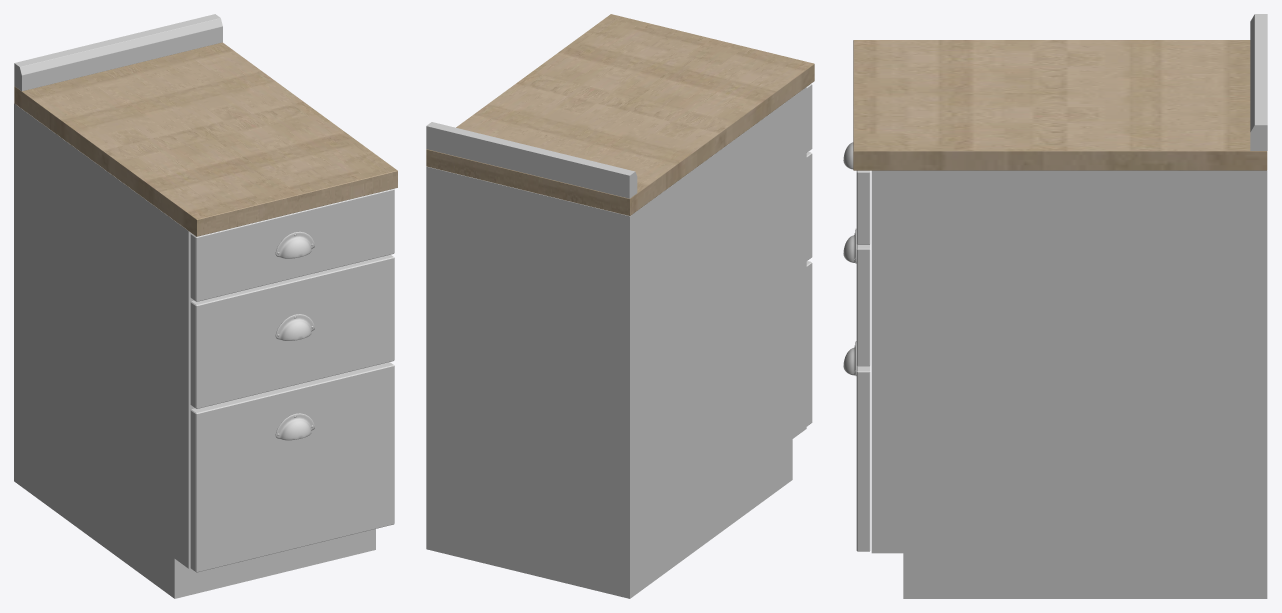
File: fit-base-cabinet.glb
3 renders of one model, left to right at view 1: azimuth 30°, elevation 25°; view 2: azimuth 150°, elevation 25°; view 3: azimuth 270°, elevation 25°, orthographic. The views are drawn at different scales.
Bounding box in the file's own units: 44.23 × 87.8 × 71.22.
Materials: 3 (1 with a texture image).
